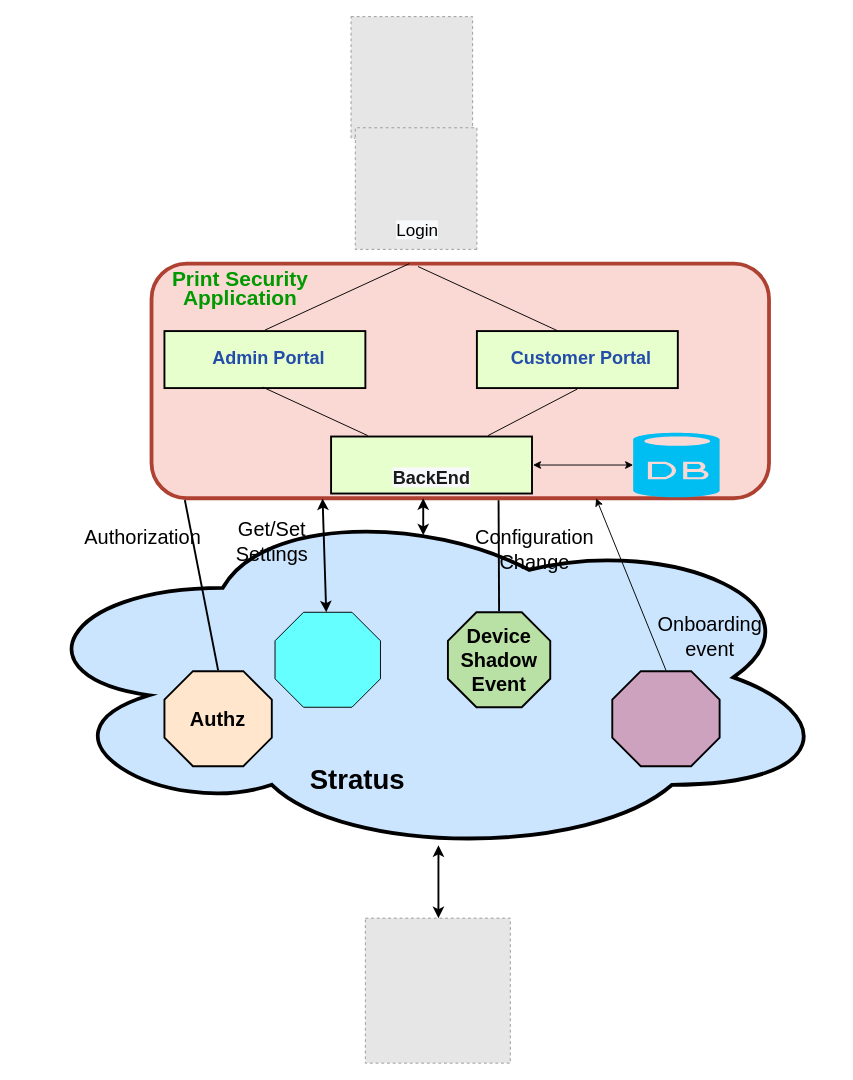
This 853x1080 diagram has some shape labels left out. Grey dashed boxes stand in for pictures. The centre of each missing label's shape, as x and y in pixels:
Commerce Mgmt: pixel 665 718
Device API: pixel 327 659
